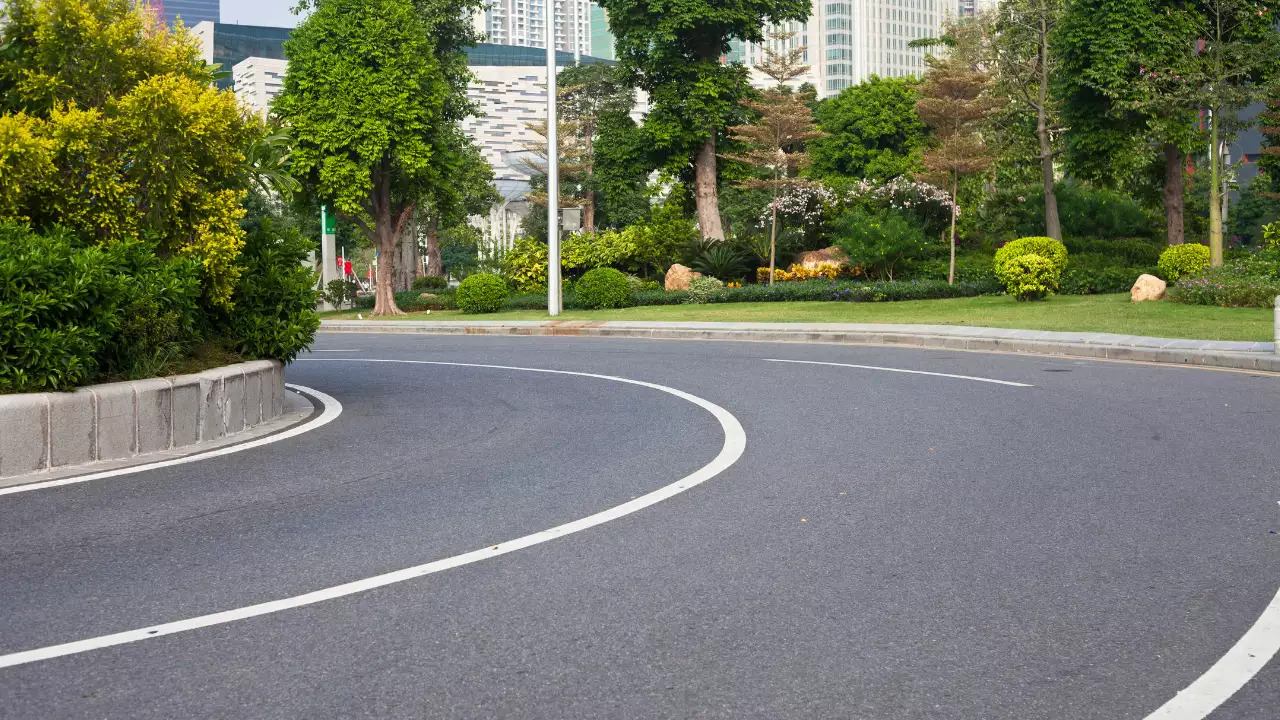leftTrun: (263, 308, 1155, 703)
